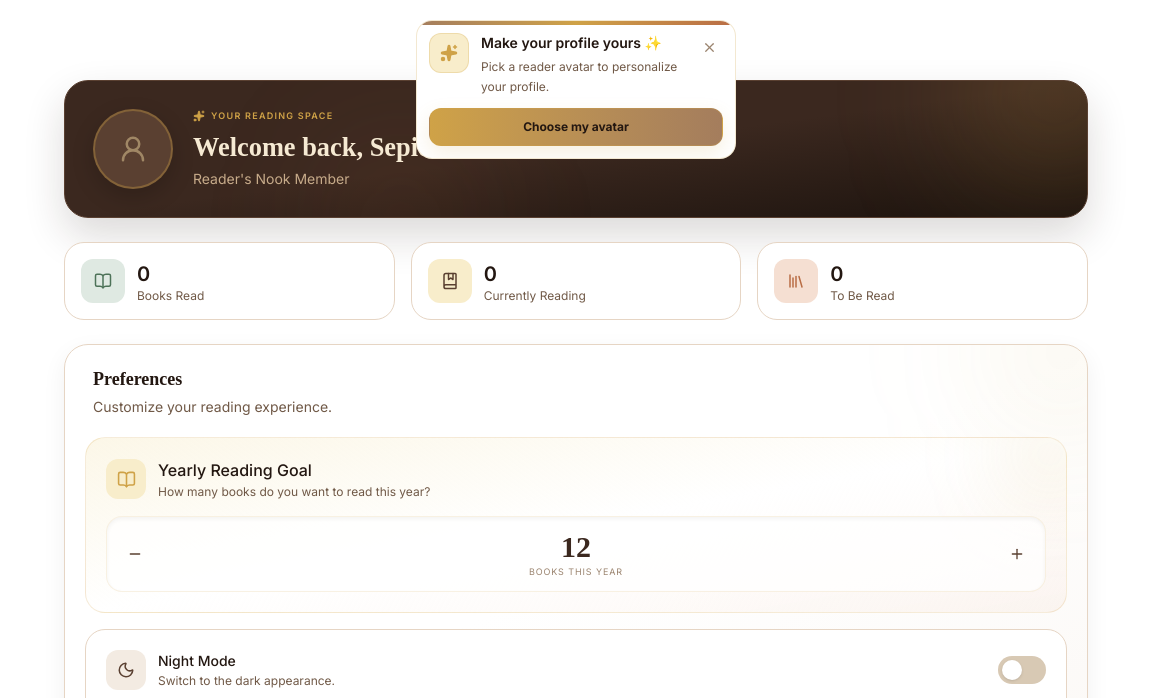
Test: settings page — admin mode › sends exactly one PATCH when Enter is pressed on the focused confirm button
Step 1. Click the button named "Change profile avatar" → click(133, 149), box [93,109,173,189]
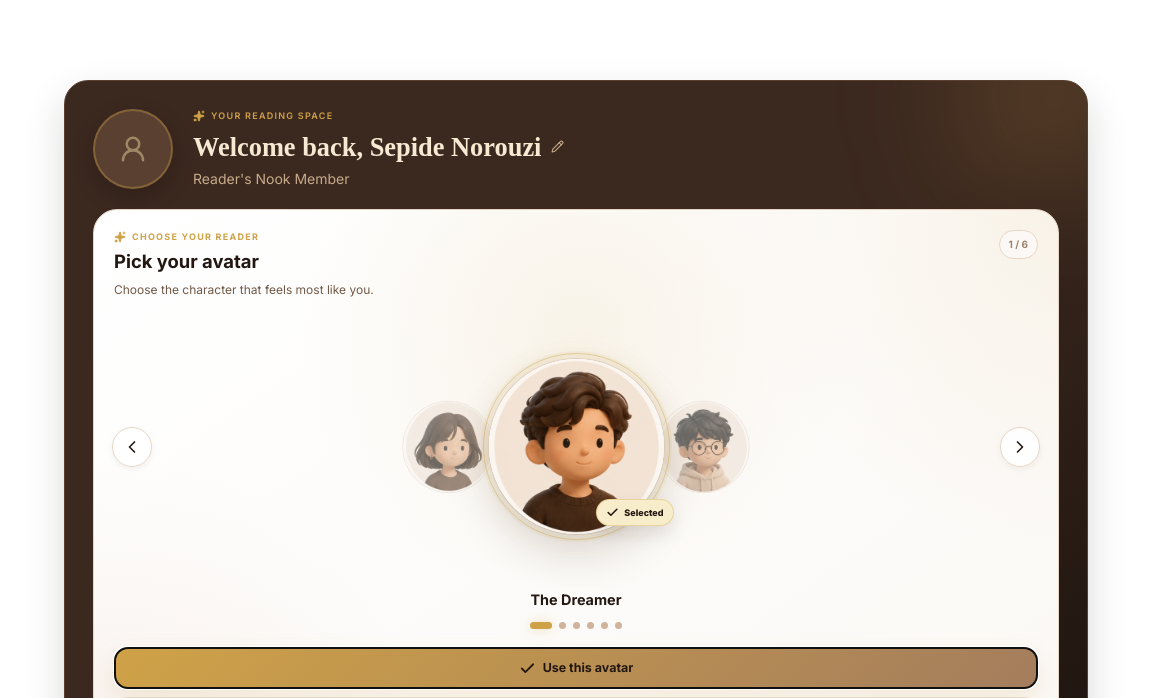
Step 2. Press Enter
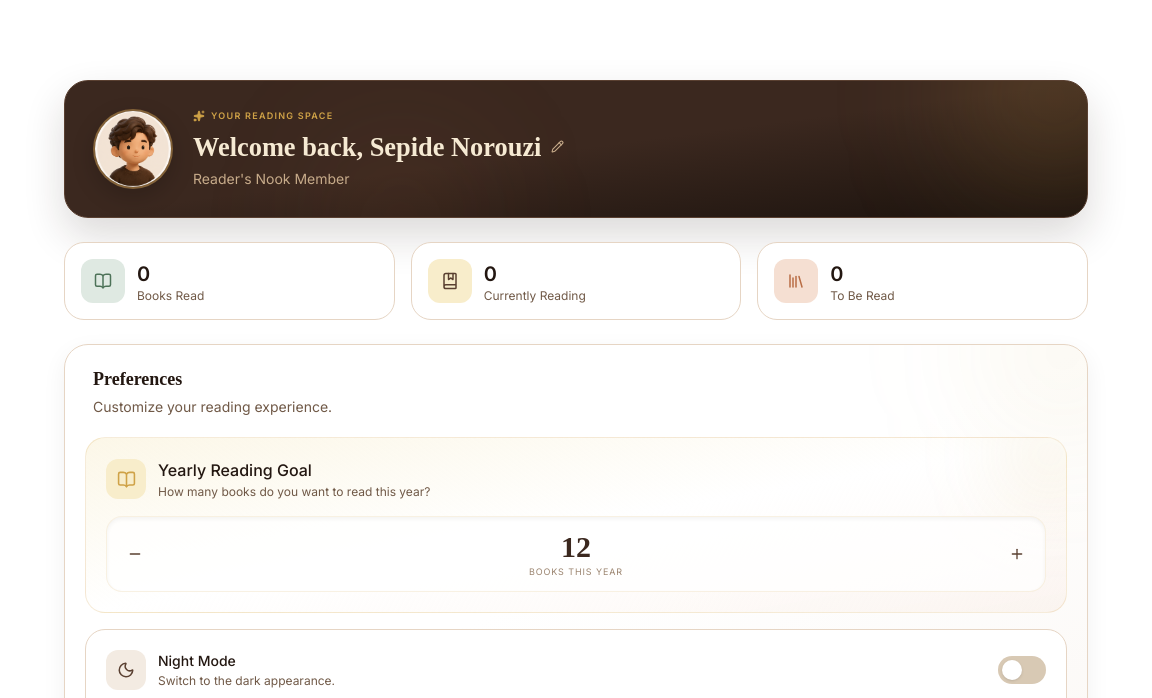
Check: the heading "Pick your avatar" is gone
